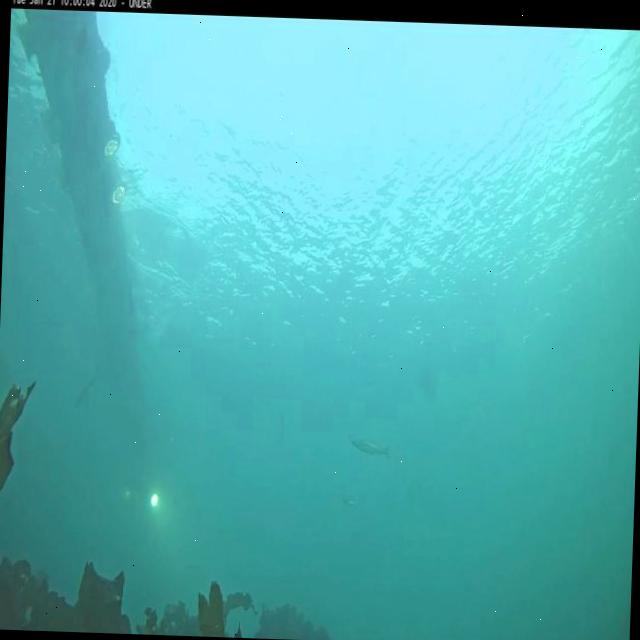fish: (73, 372, 98, 414), (350, 436, 392, 460), (338, 495, 361, 511)
